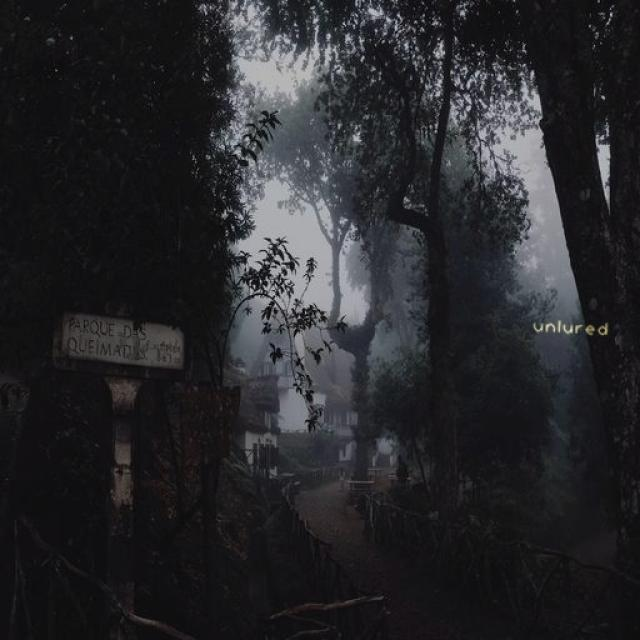watermark: (526, 317, 620, 338)
